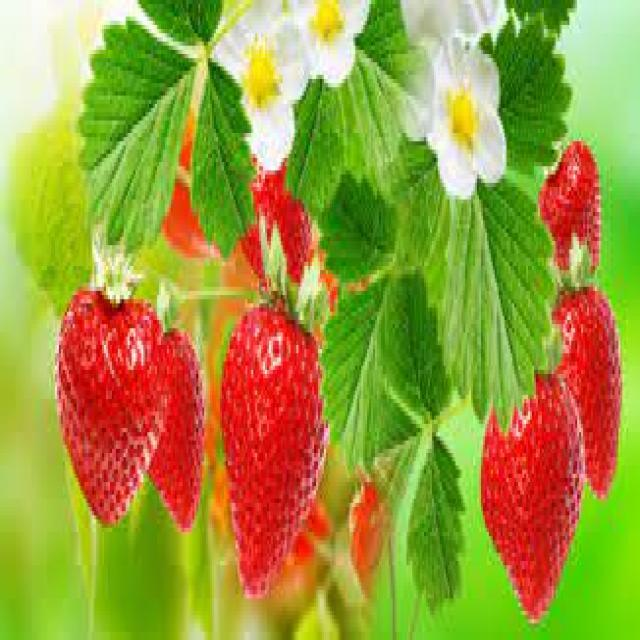Fruta sana: (216, 302, 334, 598), (51, 280, 168, 526), (474, 384, 590, 618), (554, 284, 628, 504), (240, 149, 320, 308), (154, 314, 207, 526), (534, 140, 608, 282)
